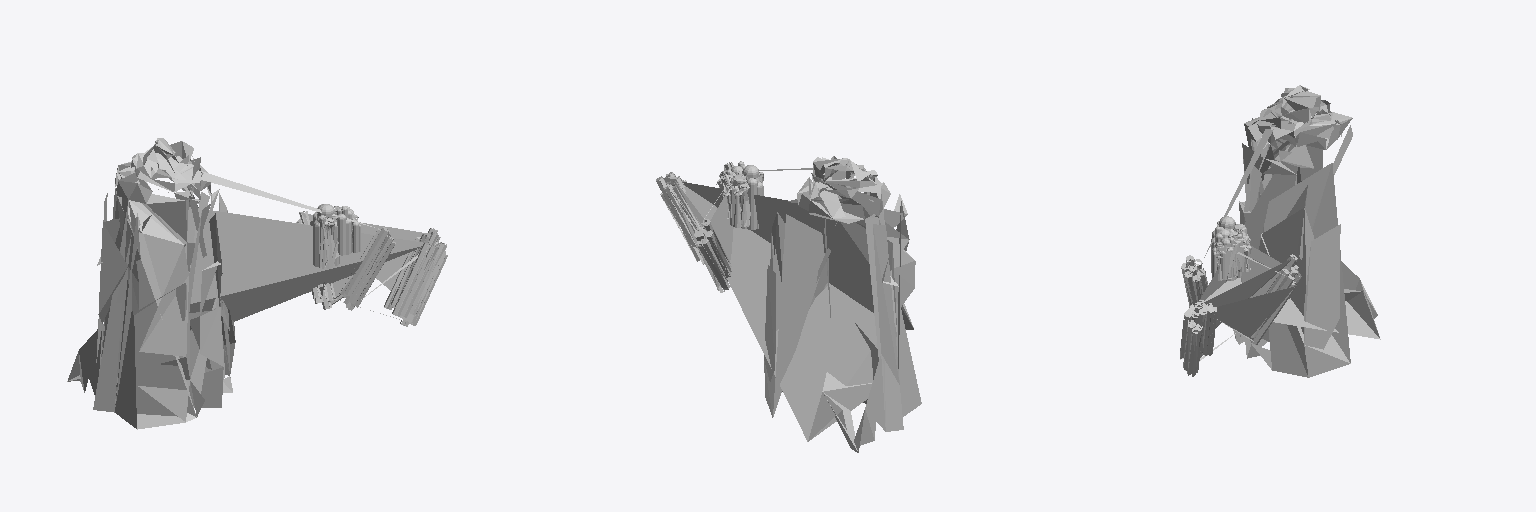
Rendered from cellSlimulationQuarry_MirrorIsland_Proxy-sharedassets3.assets-671.obj.
The picture shows the model from 3 angles: view 1: azimuth 30°, elevation 25°; view 2: azimuth 150°, elevation 25°; view 3: azimuth 270°, elevation 25°; orthographic projection.
Parts seen in each view (by area): view 1: cellSlimulationQuarry_MirrorIsland_Proxy_3, cellSlimulationQuarry_MirrorIsland_Proxy_6; view 2: cellSlimulationQuarry_MirrorIsland_Proxy_3, cellSlimulationQuarry_MirrorIsland_Proxy_6; view 3: cellSlimulationQuarry_MirrorIsland_Proxy_3, cellSlimulationQuarry_MirrorIsland_Proxy_6.
Boxes of the visible parts, box(x1,y1,x2,y2) form: cellSlimulationQuarry_MirrorIsland_Proxy_3: box(67, 138, 447, 429); cellSlimulationQuarry_MirrorIsland_Proxy_6: box(313, 204, 360, 266); cellSlimulationQuarry_MirrorIsland_Proxy_3: box(656, 156, 921, 452); cellSlimulationQuarry_MirrorIsland_Proxy_6: box(723, 161, 763, 229); cellSlimulationQuarry_MirrorIsland_Proxy_3: box(1180, 85, 1380, 377); cellSlimulationQuarry_MirrorIsland_Proxy_6: box(1211, 216, 1246, 280).
Bounding box in the file's own units: 128 × 105 × 74.73.